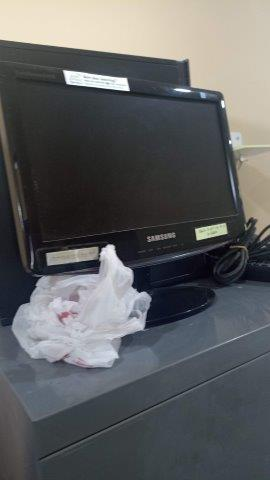plastik: (12, 243, 153, 370)
